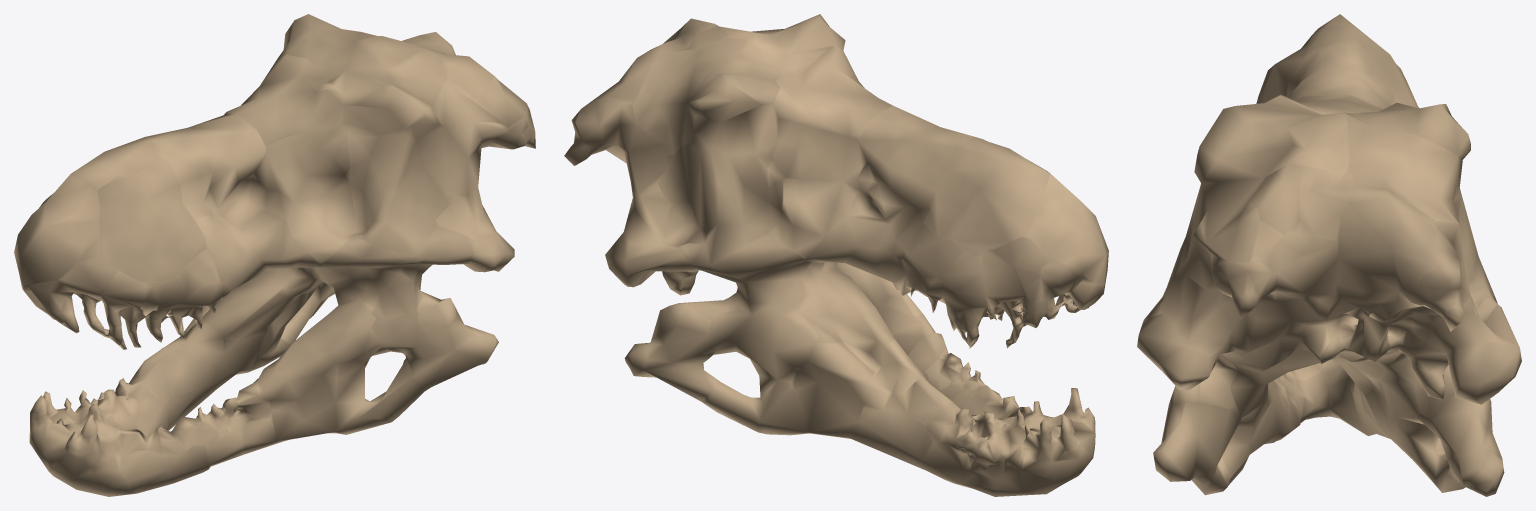
File: dinosaur_fossil.glb
3 renders of one model, left to right at view 1: azimuth 30°, elevation 25°; view 2: azimuth 150°, elevation 25°; view 3: azimuth 270°, elevation 25°, orthographic. The views are drawn at different scales.
Parts seen in each view (by area): view 1: Dinosaur Fossil; view 2: Dinosaur Fossil; view 3: Dinosaur Fossil.
Boxes of the visible parts, bbox=[...] form: Dinosaur Fossil: bbox=[14, 14, 535, 496]; Dinosaur Fossil: bbox=[564, 14, 1108, 496]; Dinosaur Fossil: bbox=[1137, 14, 1521, 496].
Bounding box in the file's own units: 1.89 × 1.43 × 1.1.
1 material, 1 textured.
